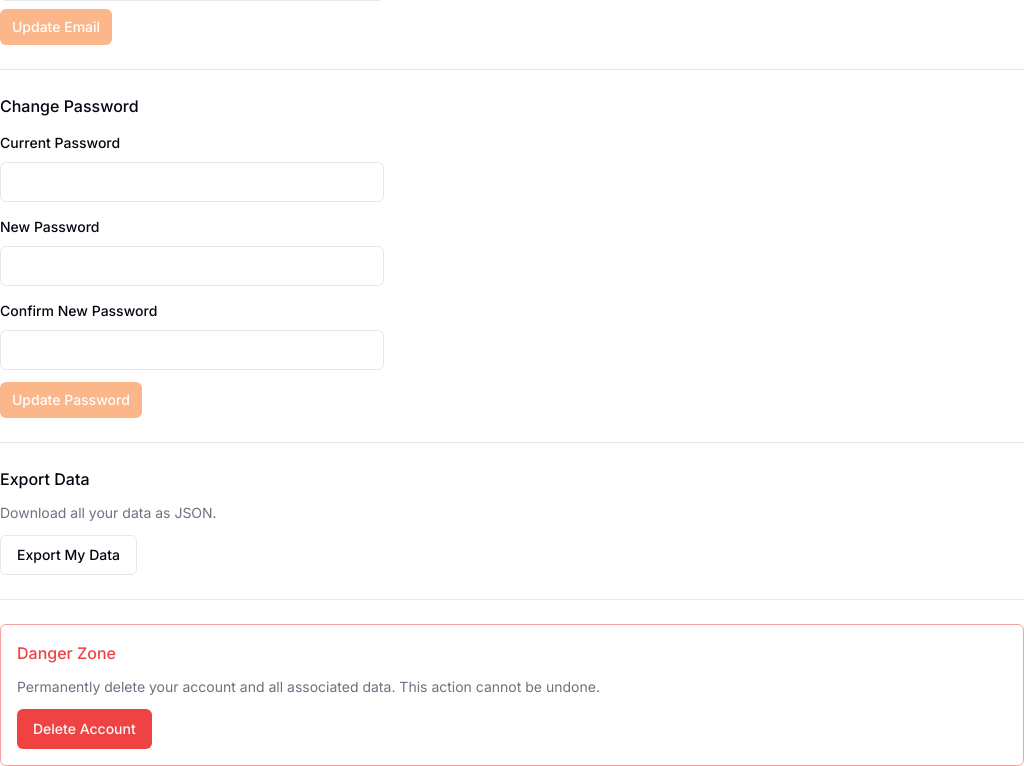
it: AccountSettings › disables confirm delete button until "DELETE" is typed
(page scrolled)
Click the button "Delete Account" at (84, 729), box 17,709 -> 152,749
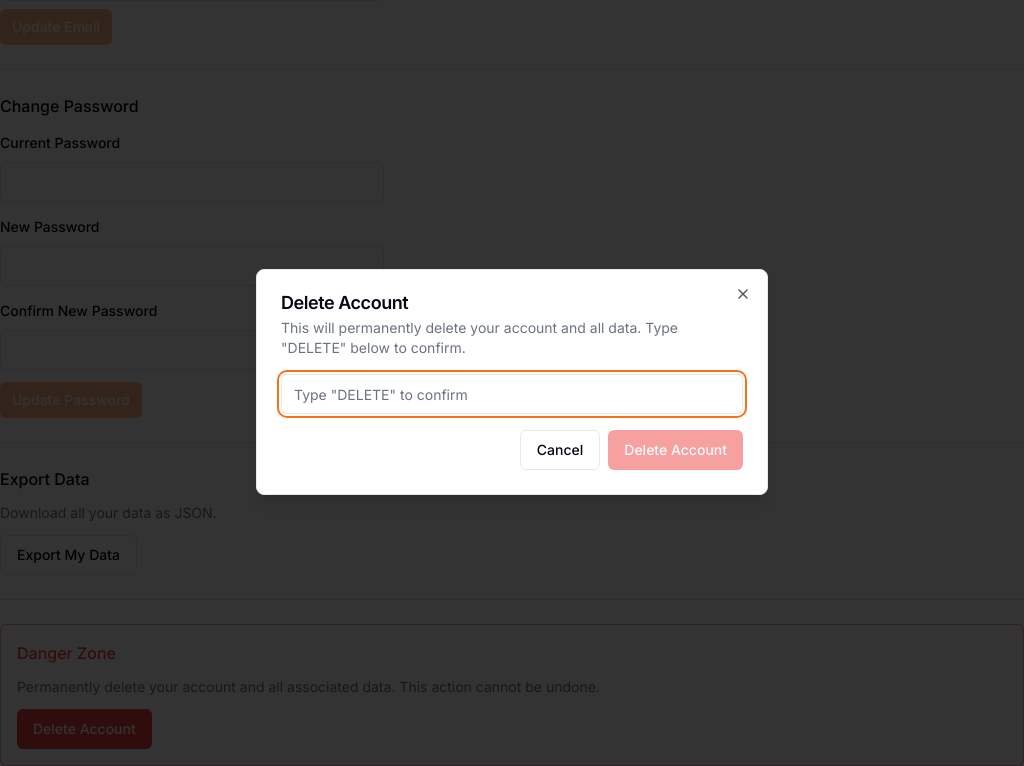
Check: the button "Delete Account" is disabled, box 608,430 -> 743,470
Type DELETE in the confirmation input
Type "DELETE" into the field with placeholder "Type \"DELETE\" to confirm" at (512, 394), box 281,374 -> 743,414
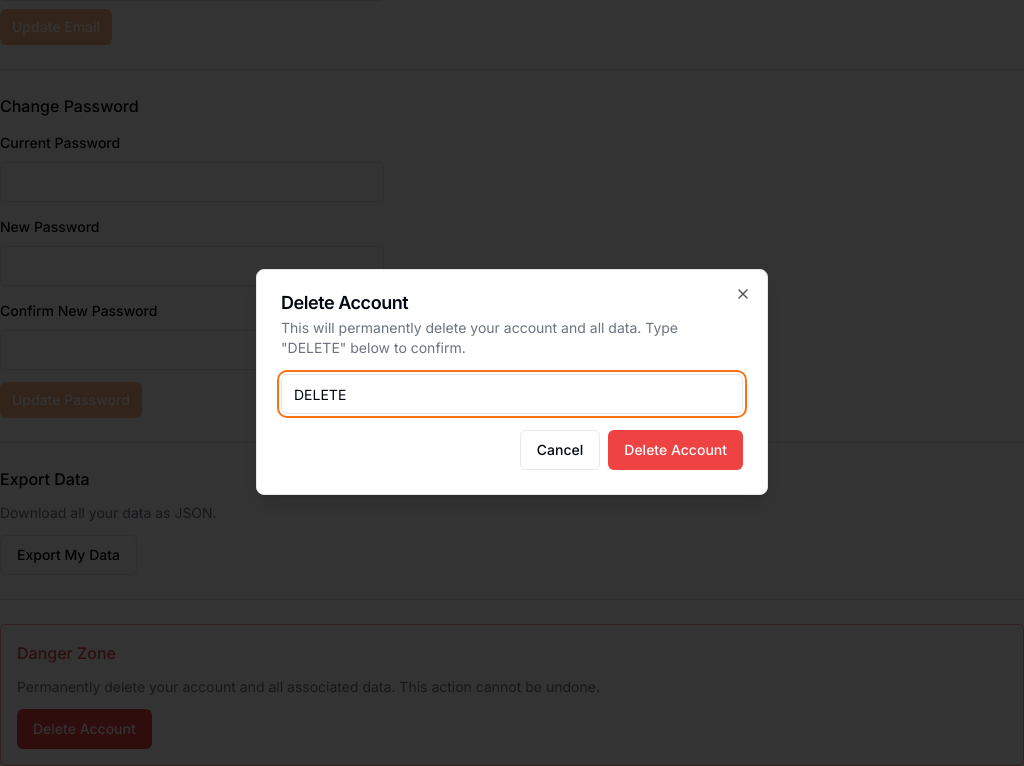
Check: the button "Delete Account" is enabled, box 608,430 -> 743,470
